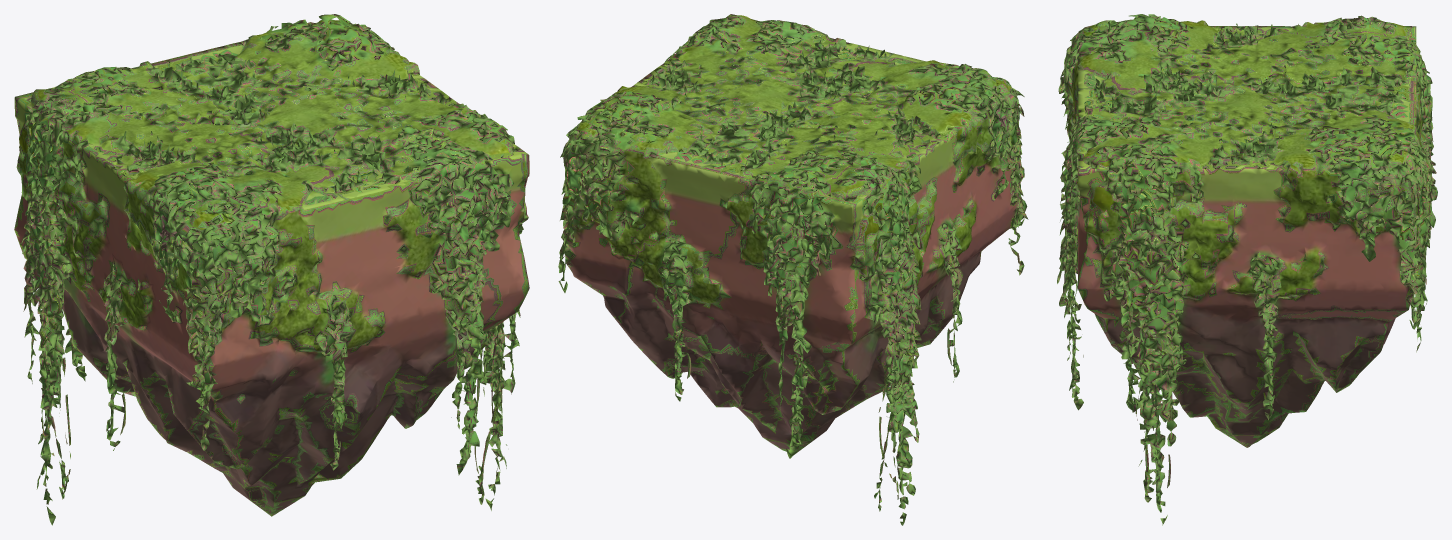
File: FlatIvyBase.opt.glb
3 renders of one model, left to right at view 1: azimuth 30°, elevation 25°; view 2: azimuth 150°, elevation 25°; view 3: azimuth 270°, elevation 25°, orthographic. The views are drawn at different scales.
Bounding box in the file's own units: 1.78 × 1.9 × 1.75.
1 material, 1 textured.
